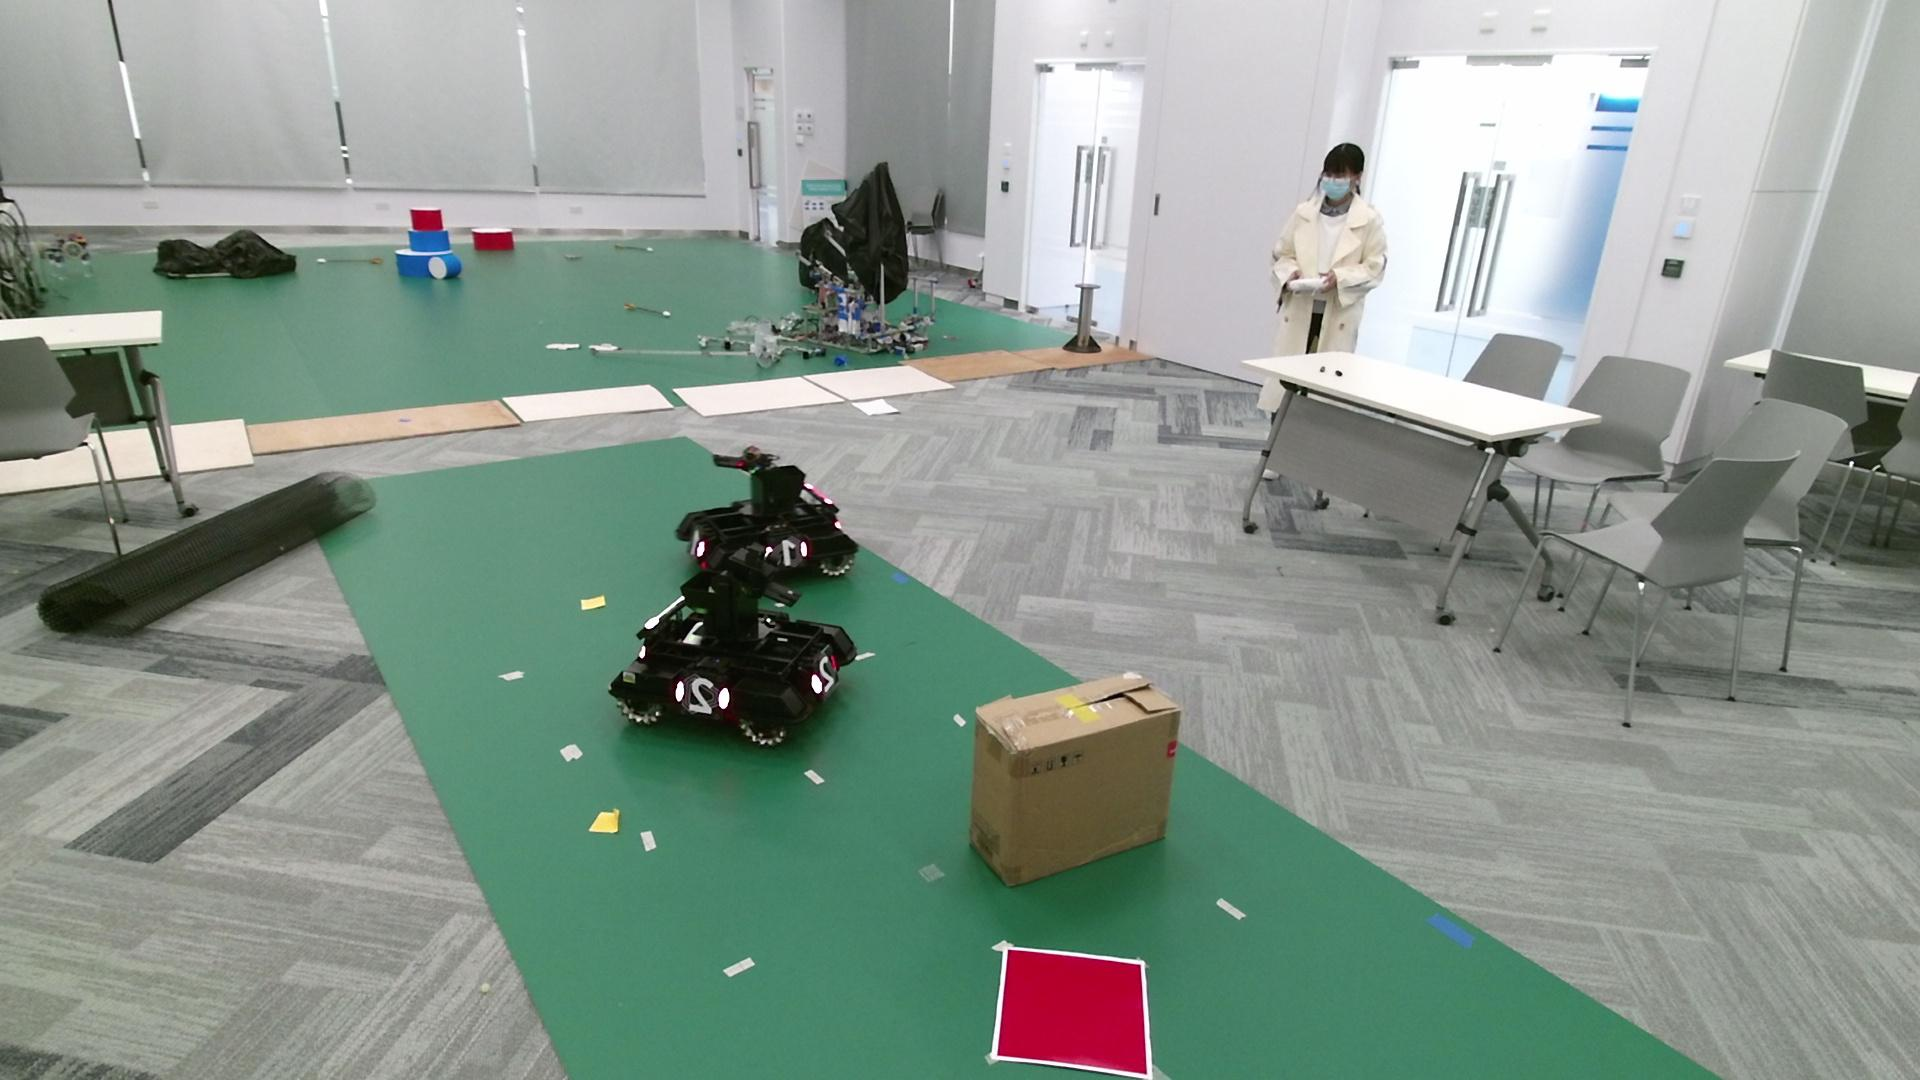robot: (607, 541, 858, 749), (675, 444, 860, 582)
